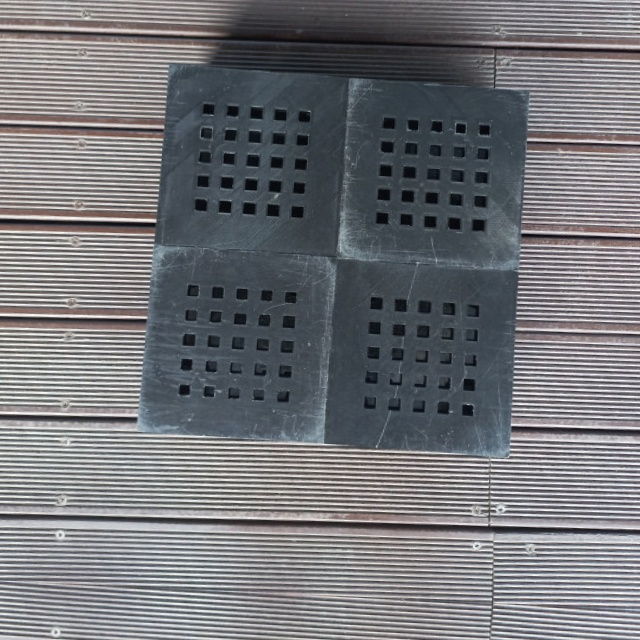pallet: (128, 48, 539, 455)
